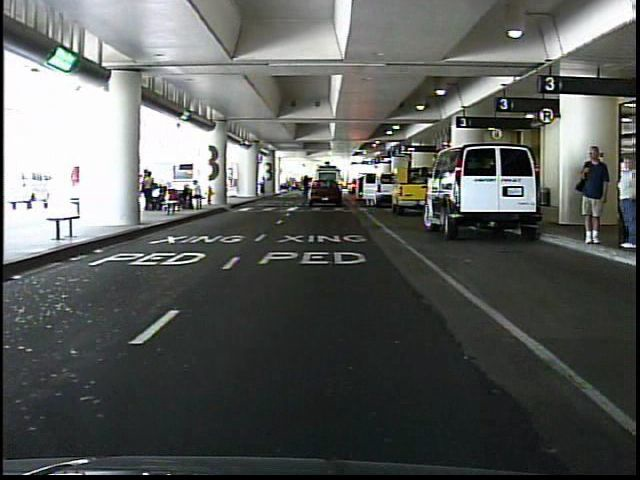person: (573, 143, 609, 247), (612, 153, 640, 250), (259, 171, 271, 195)
